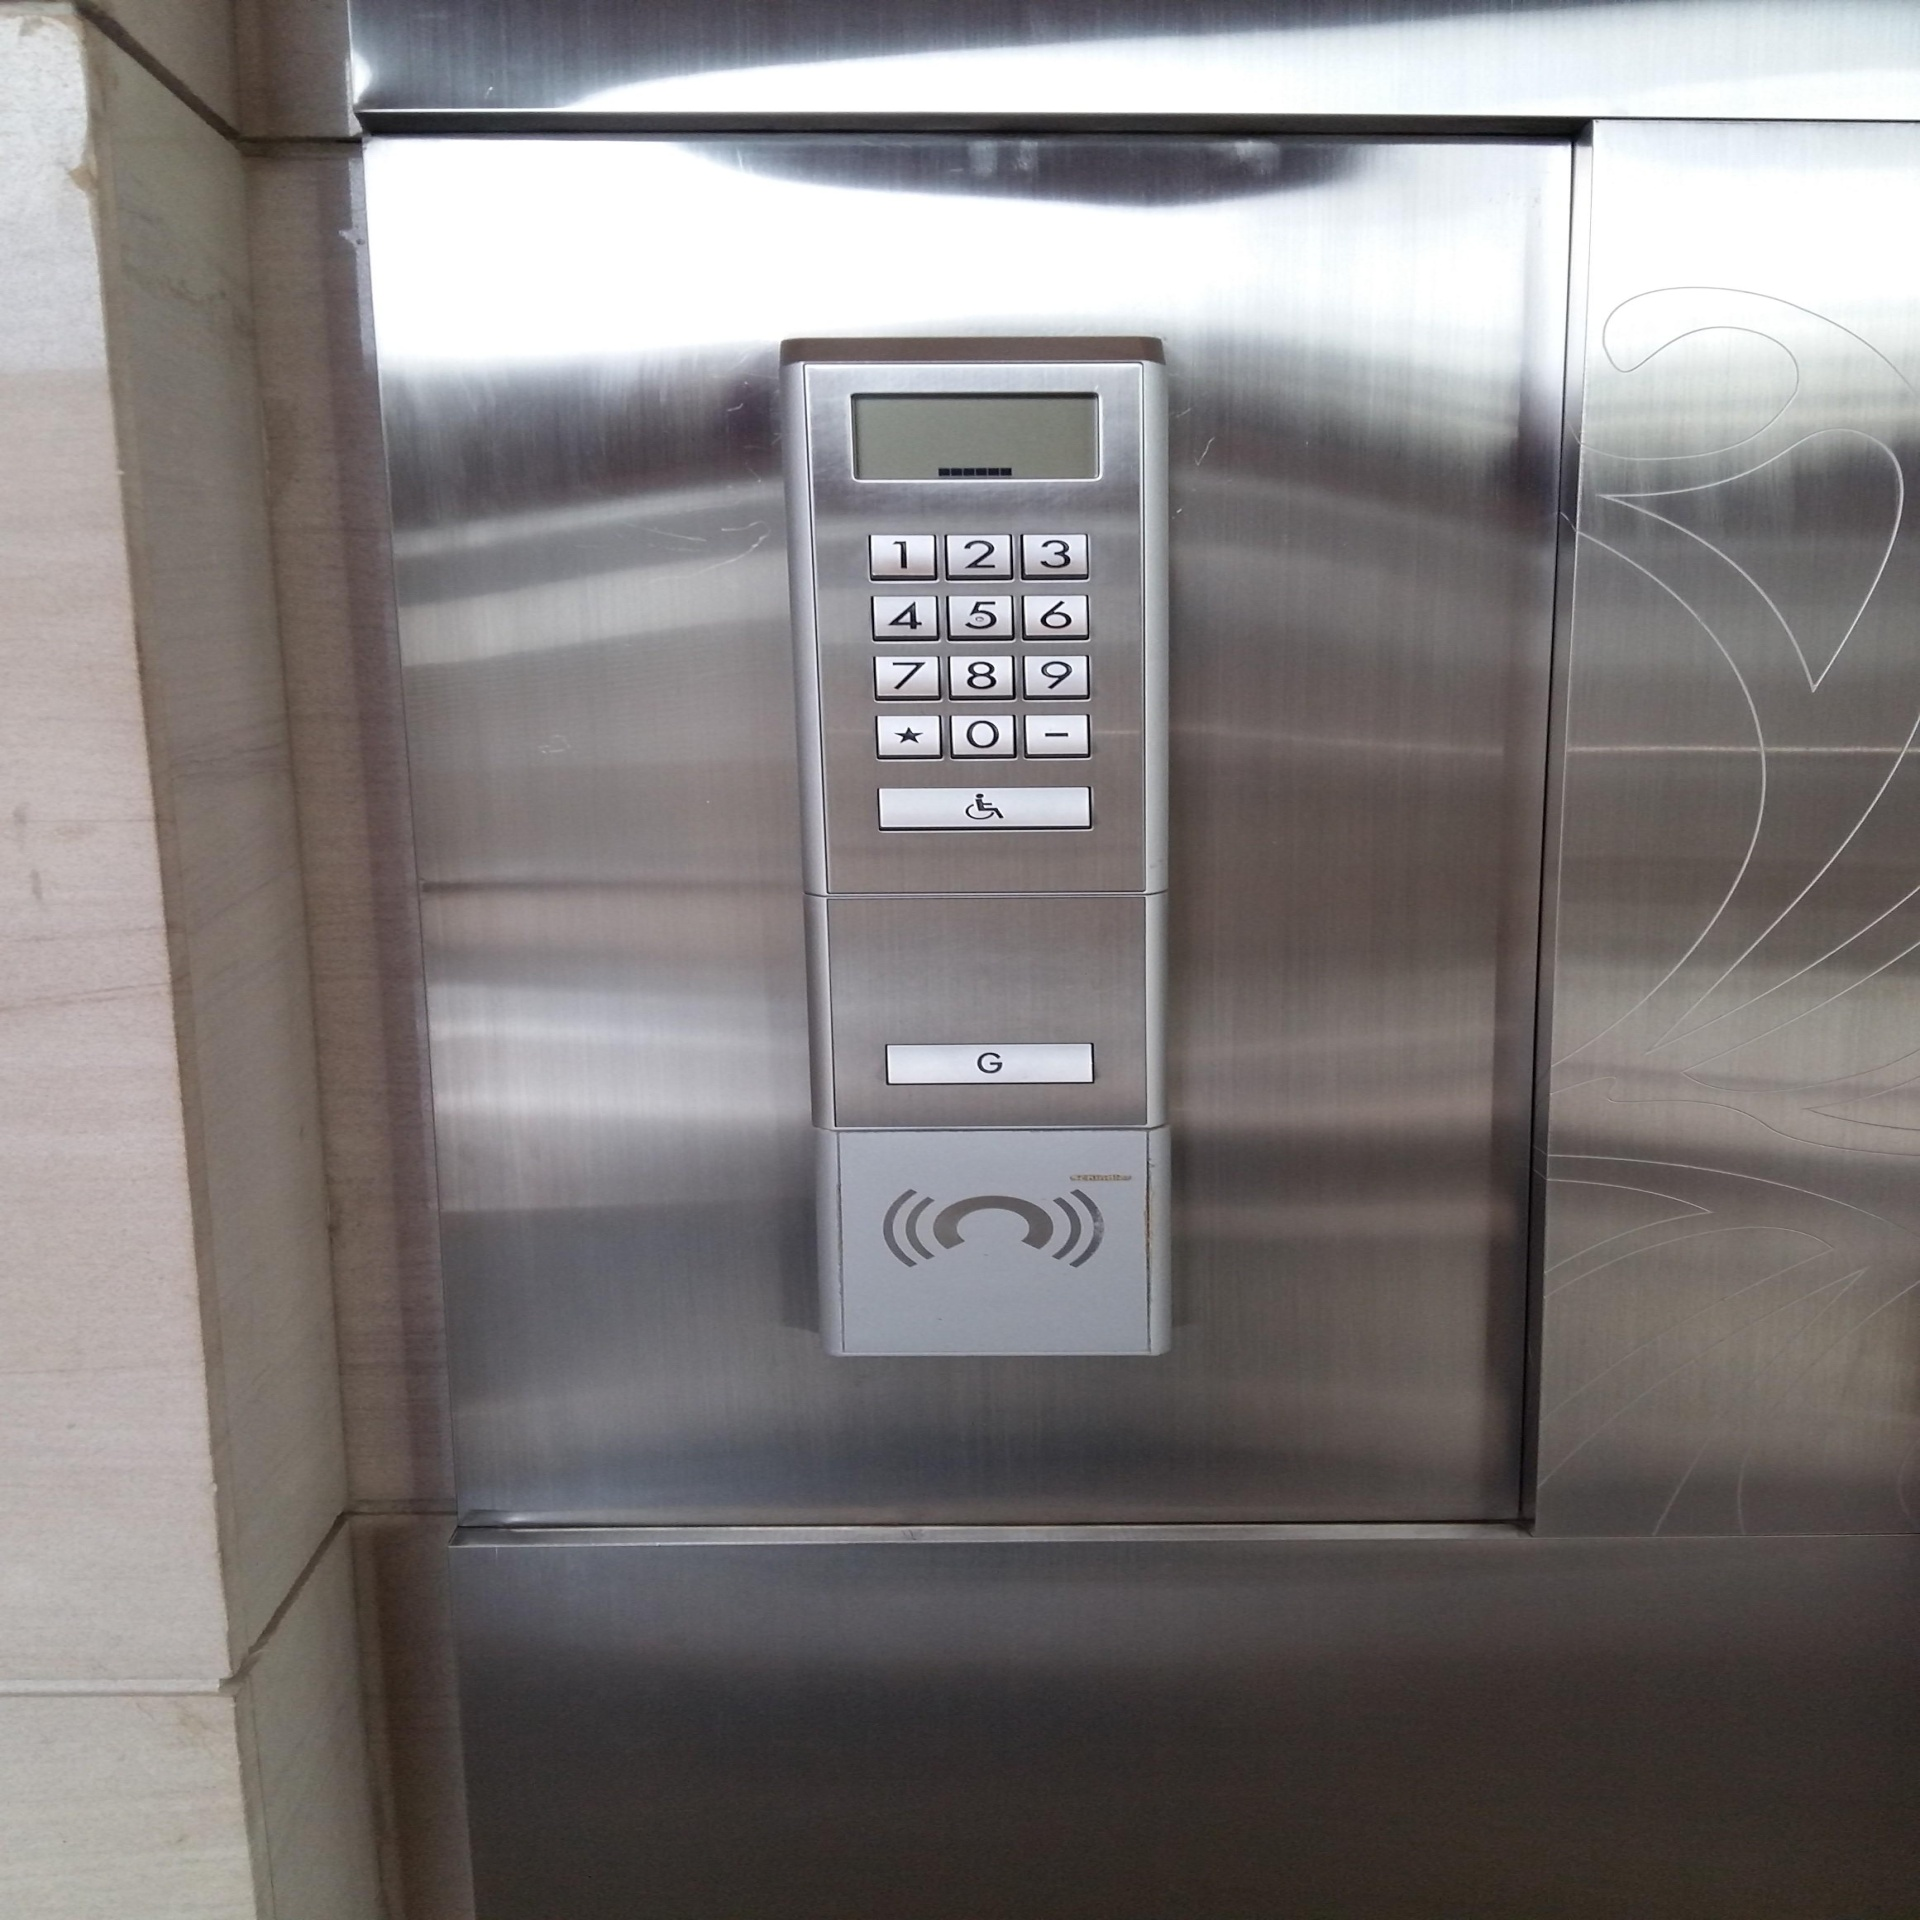-: (1022, 710, 1095, 761)
0: (946, 714, 1018, 761)
1: (867, 533, 937, 582)
2: (941, 533, 1016, 580)
3: (1018, 533, 1092, 582)
4: (867, 593, 944, 644)
5: (944, 594, 1015, 645)
6: (1018, 593, 1092, 644)
7: (870, 652, 944, 703)
8: (942, 654, 1018, 703)
9: (1020, 652, 1092, 702)
CH: (877, 786, 1094, 833)
G: (883, 1043, 1094, 1085)
led: (851, 394, 1104, 482)
s: (874, 714, 946, 761)
